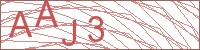3: (87, 15, 105, 43)
A: (35, 1, 60, 29), (9, 10, 33, 39)
J: (62, 19, 78, 47)
